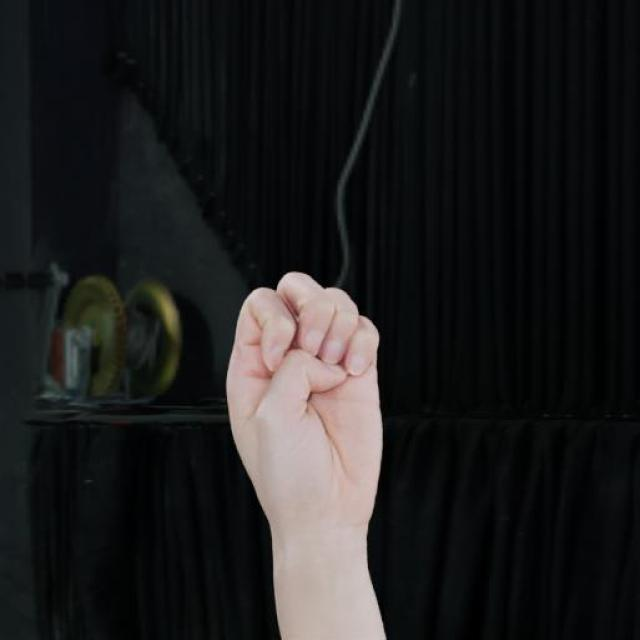E: (222, 268, 388, 523)
